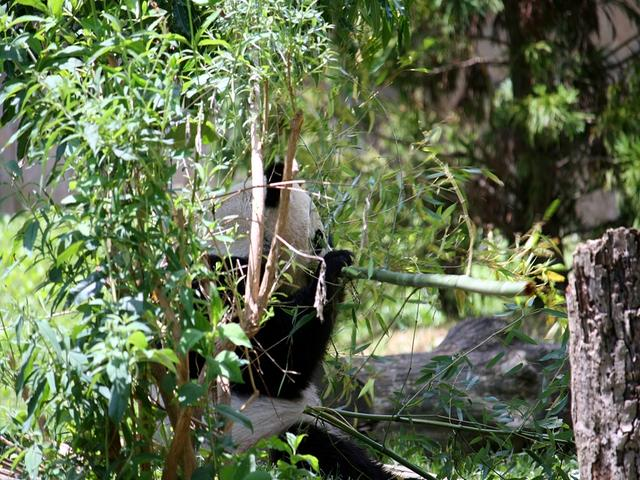panda: (144, 127, 420, 392)
